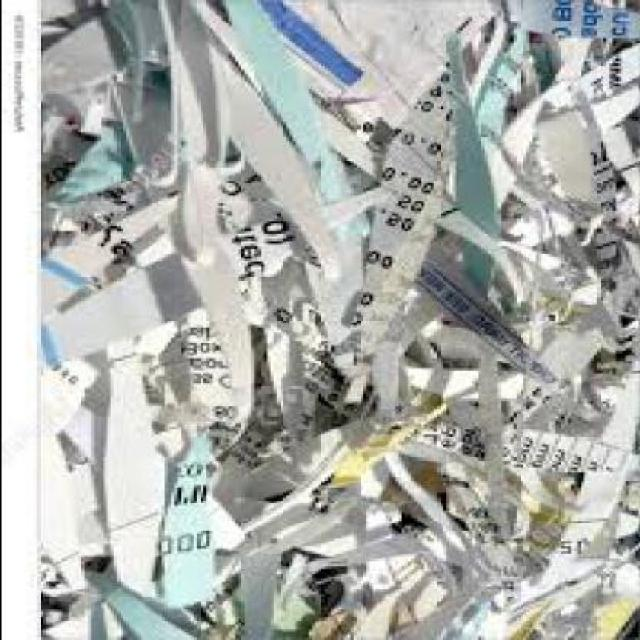PAPER: (38, 1, 638, 640)
